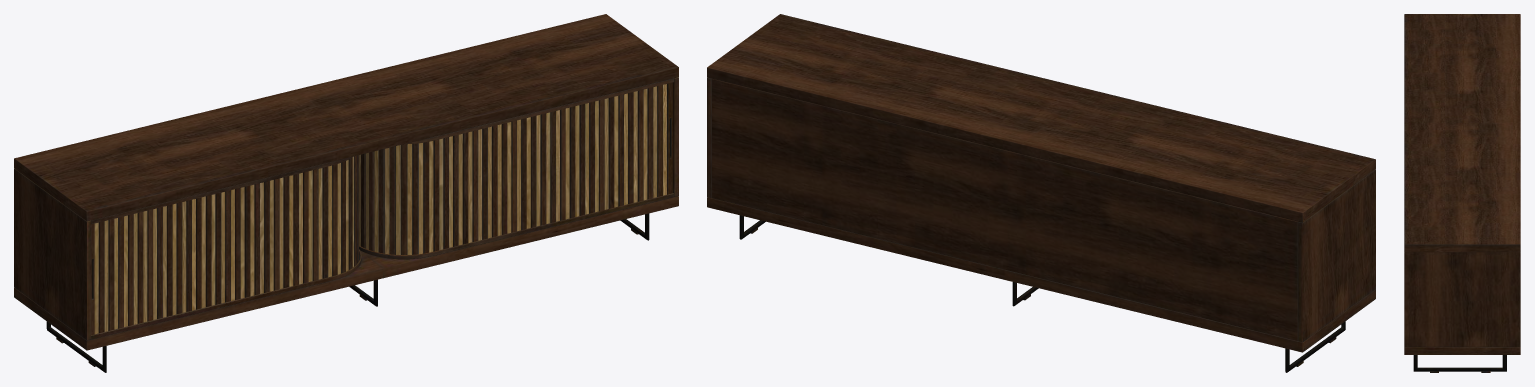
File: modern_wooden_cabinet.glb
3 views of the same model, side by side, from view 1: azimuth 30°, elevation 25°; view 2: azimuth 150°, elevation 25°; view 3: azimuth 270°, elevation 25° (orthographic). The views are drawn at different scales.
Visible parts, largest first — view 1: modern_wooden_cabinet_body, modern_wooden_cabinet_door_r, modern_wooden_cabinet_door_l; view 2: modern_wooden_cabinet_body; view 3: modern_wooden_cabinet_body.
Part boxes in pixels (x1,y1,x2,y2): modern_wooden_cabinet_body: (14,14,678,372); modern_wooden_cabinet_door_r: (359,82,672,254); modern_wooden_cabinet_door_l: (91,155,358,334); modern_wooden_cabinet_body: (707,14,1375,372); modern_wooden_cabinet_body: (1404,14,1520,372).
Bounding box in the file's own units: 2.44 × 0.6801 × 0.52.
1 material, 1 textured.
